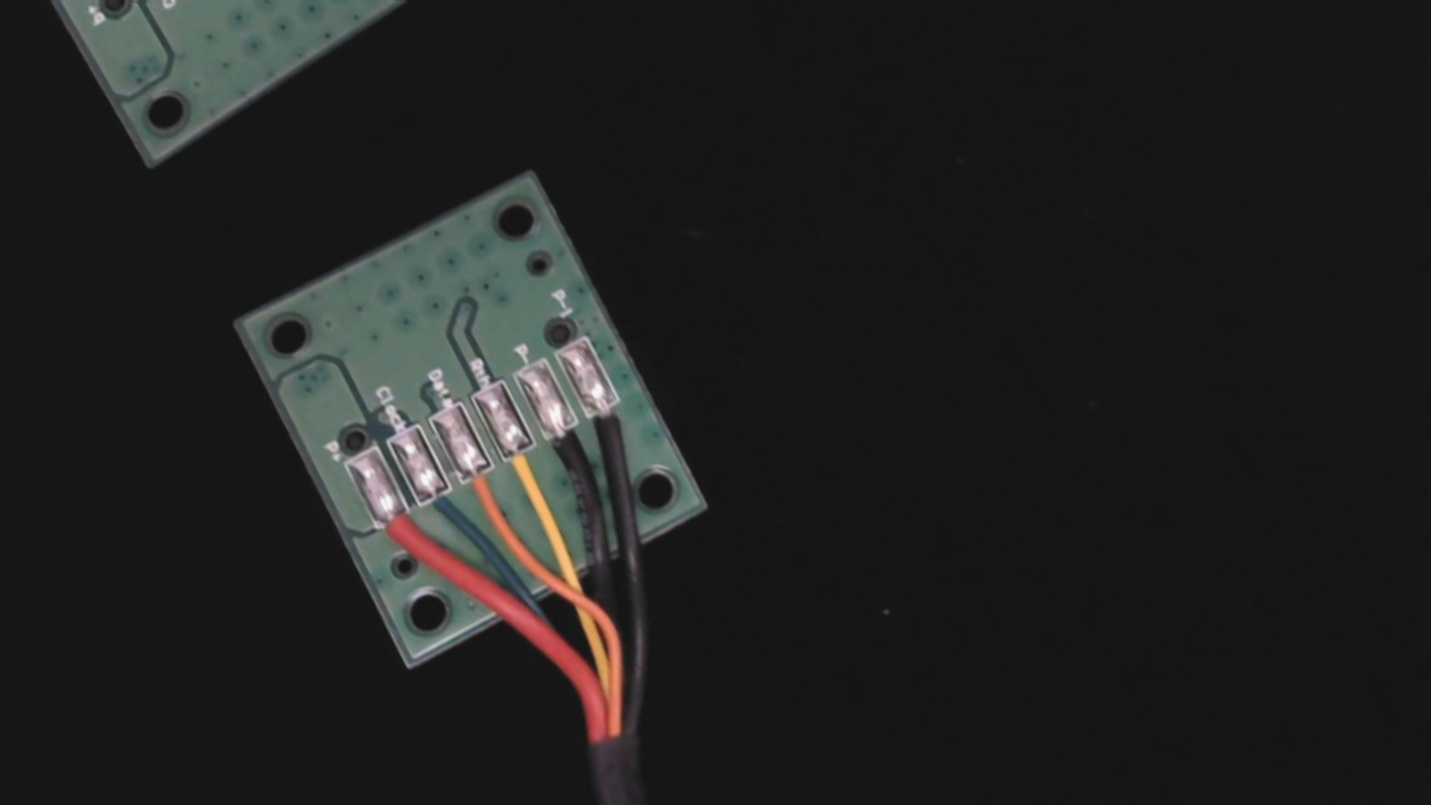Black: (529, 402, 608, 488)
Black1: (567, 378, 653, 472)
Green: (404, 466, 482, 548)
Orange: (445, 449, 518, 531)
Red: (364, 492, 438, 570)
Yellow: (488, 423, 565, 509)
